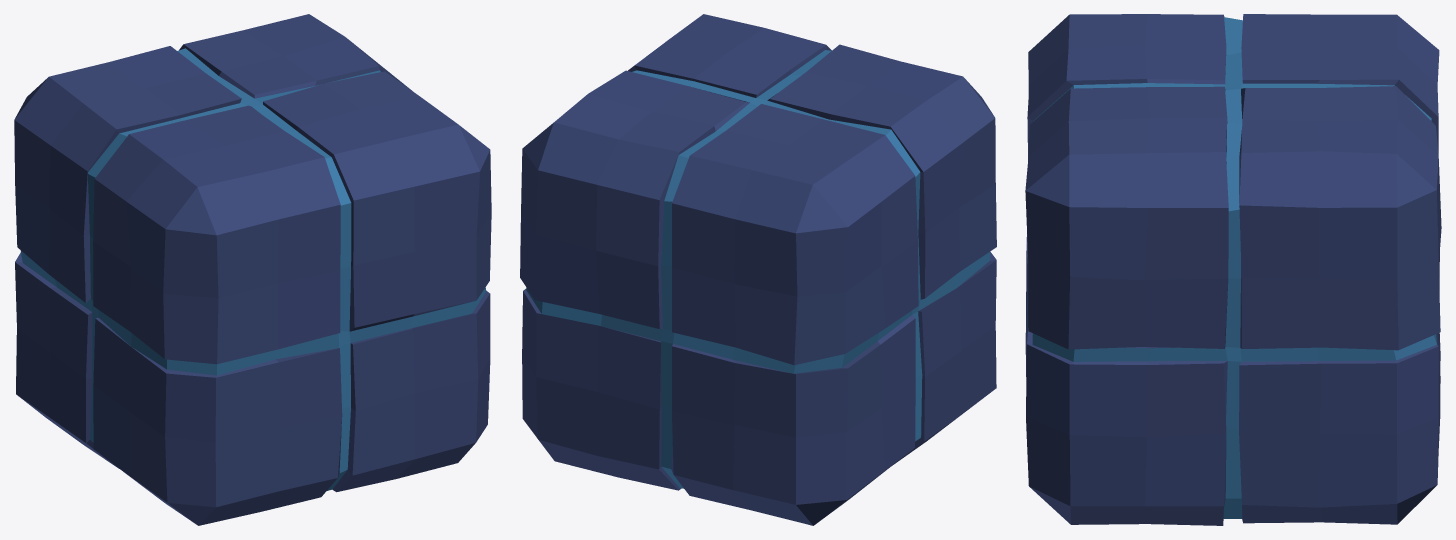
File: Platform Chunk.fbx
3 renders of one model, left to right at view 1: azimuth 30°, elevation 25°; view 2: azimuth 150°, elevation 25°; view 3: azimuth 270°, elevation 25°, orthographic. The views are drawn at different scales.
Parts seen in each view (by area): view 1: Cube; view 2: Cube; view 3: Cube.
Part boxes in pixels (x1,y1,x2,y2): Cube: [14, 14, 491, 525]; Cube: [520, 14, 996, 525]; Cube: [1025, 14, 1441, 525].
Size of the model in its own units: 102 by 101 by 101.
